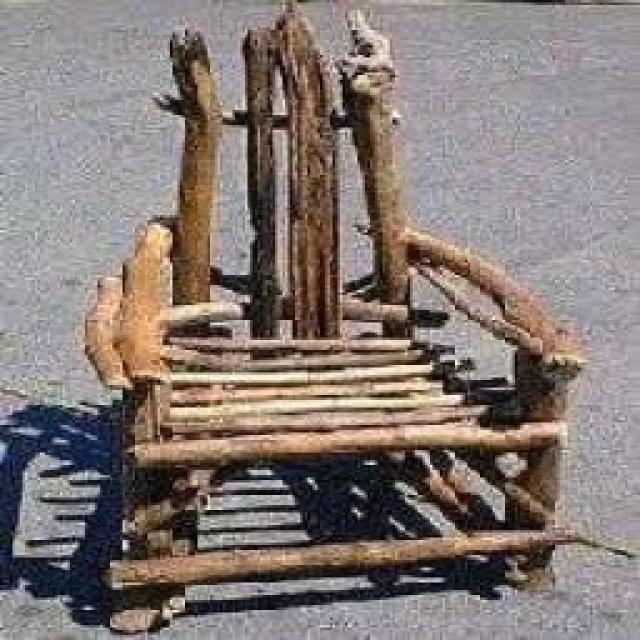sandalye: (80, 0, 590, 628)
